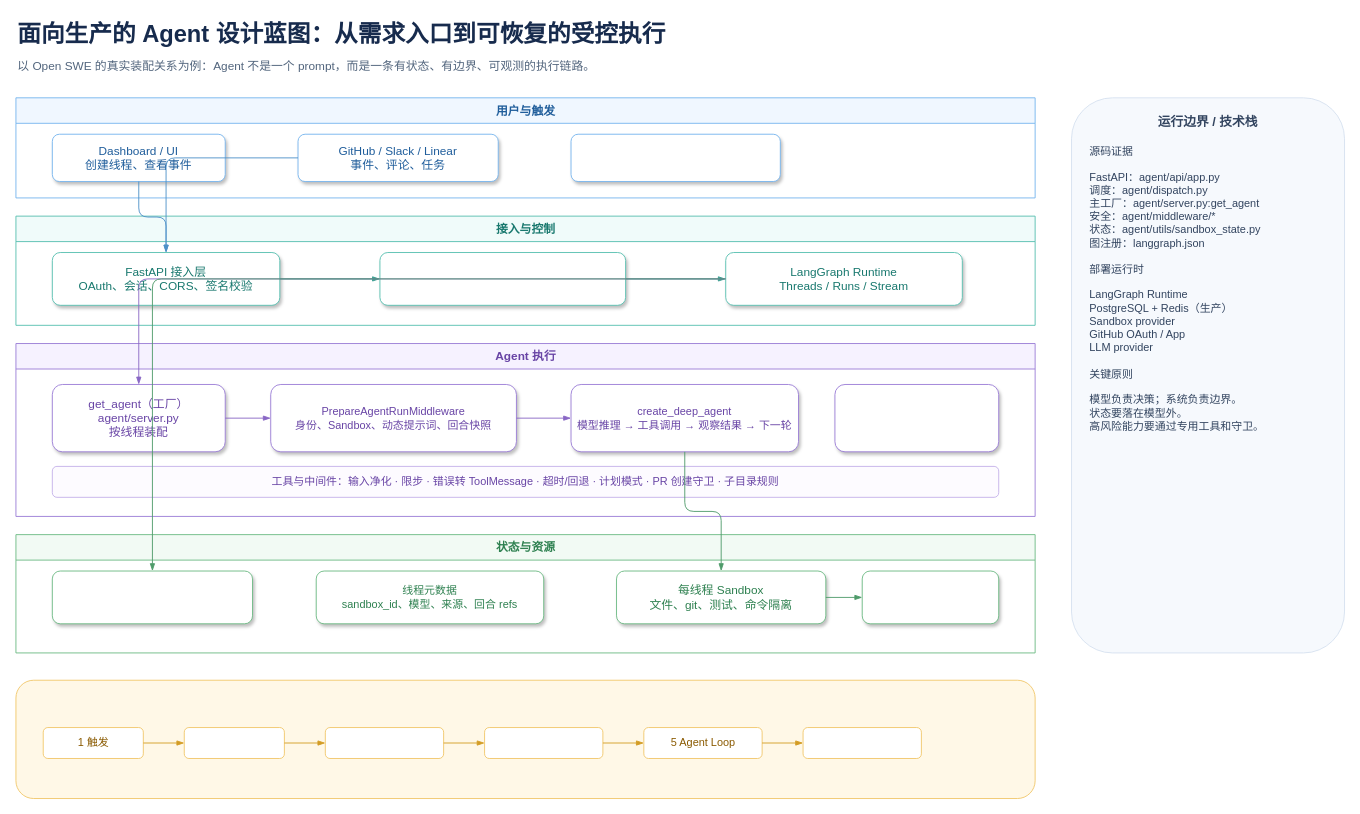
This 1360x814 diagram has some shape labels left out. Each missing label, with the centre of its shape:
"2 验证" goes at point 233,742.
"3 Durable Run" goes at point 384,742.
"4 准备上下文" goes at point 543,742.
"6 安全执行" goes at point 861,742.
"Checkpoint / Store Run 可中断、可恢复" goes at point 153,598.
"GitHub Proxy 令牌不写入 Sandbox；到期刷新" goes at point 931,598.
"专用 Agent 图 Reviewer / Analyzer / Chat 按风险与目标拆职责" goes at point 917,419.
"确定性 thread_id 同一事项回到同一上下文" goes at point 676,159.
"统一 Dispatch sync checkpoint + interrupt + 可恢复事件" goes at point 503,280.
